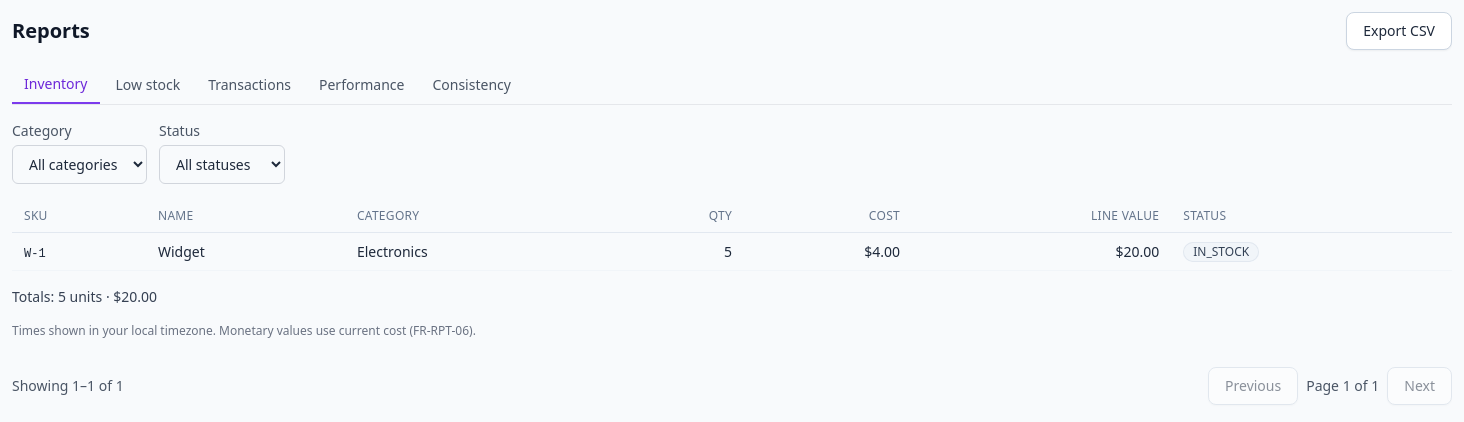
Reports page (FR-RPT-01…06) › Admin sees export + the Consistency tab; switching shows the drift badge
The image size is (1464, 422).
Expected: the button "Export CSV" is shown, [1346,12,1452,50]
Step 1. Click the tab "Consistency" → [472, 85], box [420,66,523,104]
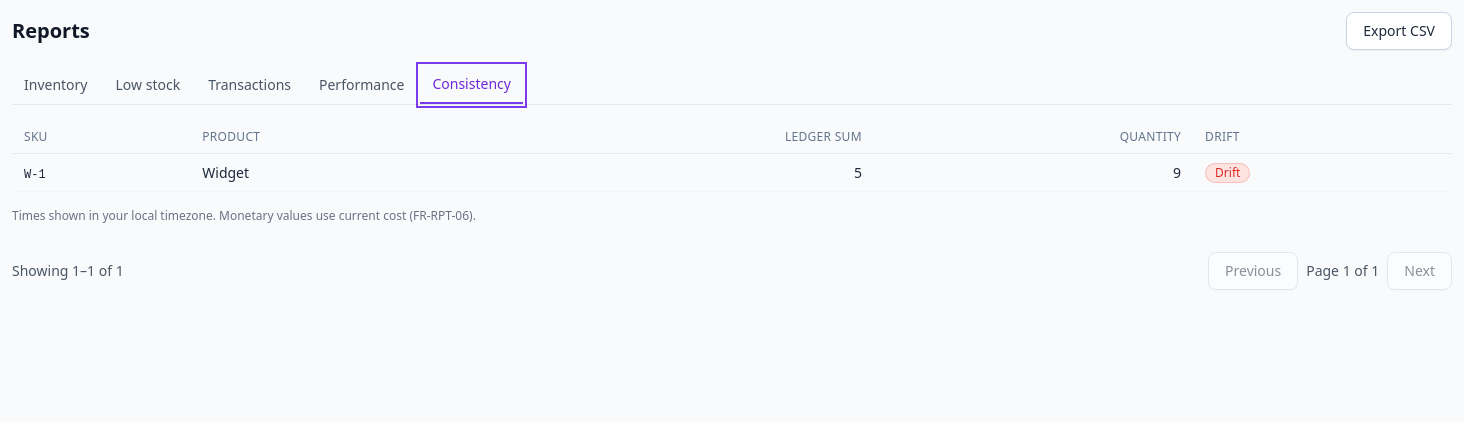
Now the column heading "Drift" is shown, box [1193,121,1452,154]
